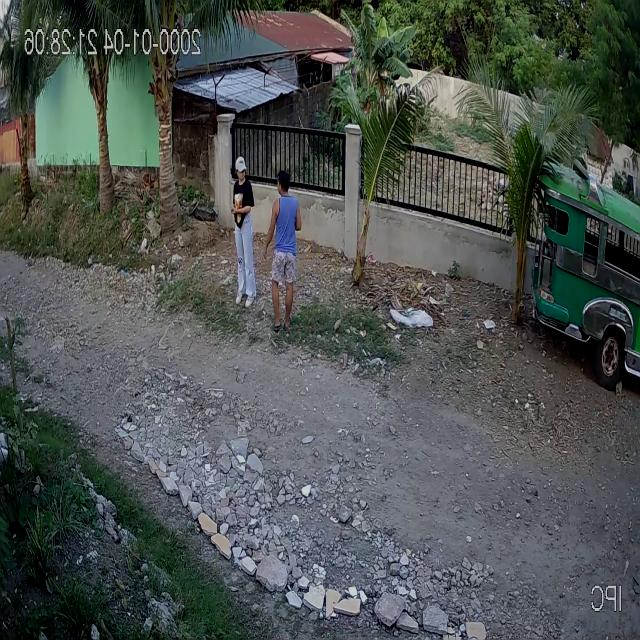standing: (229, 153, 258, 310)
walking: (262, 167, 303, 333)
